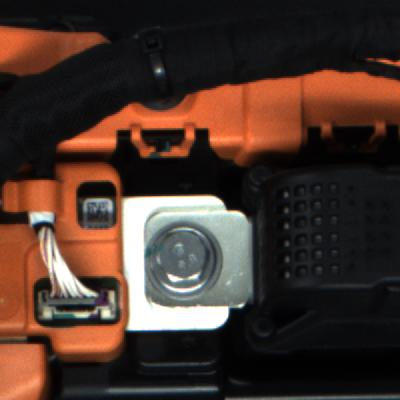nut_b: (142, 223, 226, 298)
